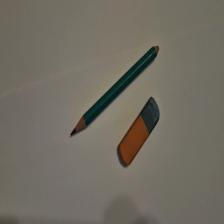eraser: (118, 97, 161, 166)
pencil: (71, 46, 160, 137)
